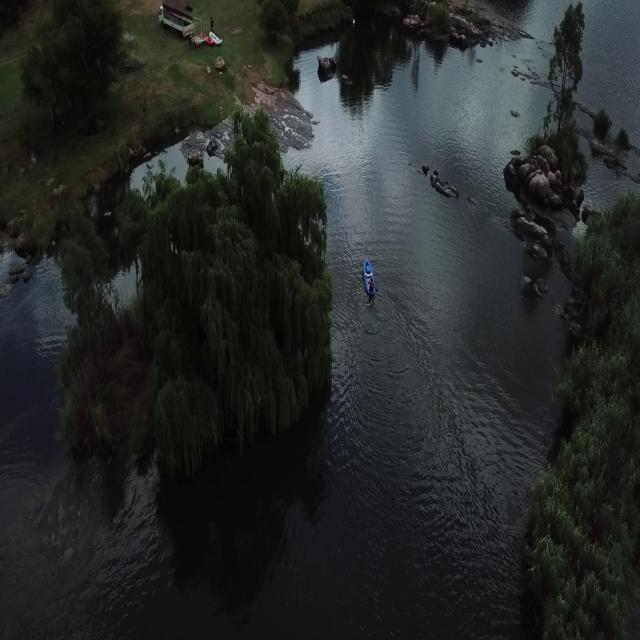kayak: (360, 257, 378, 300)
